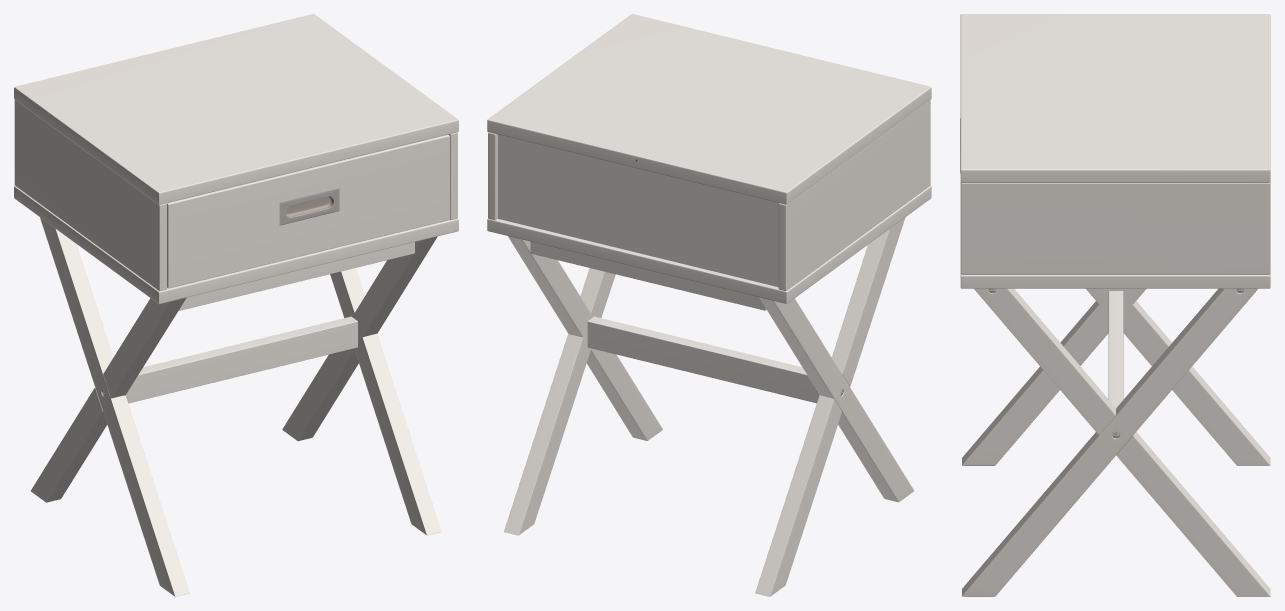
Rendered from table_B07DBDX5WF.glb.
The picture shows the model from 3 angles, left to right: view 1: azimuth 30°, elevation 25°; view 2: azimuth 150°, elevation 25°; view 3: azimuth 270°, elevation 25°; orthographic projection. The views are drawn at different scales.
Visible parts, largest first — view 1: RootNode; view 2: RootNode; view 3: RootNode.
Boxes of the visible parts, left/top/right/bottom form: RootNode: left=14, top=14, right=458, bottom=596; RootNode: left=487, top=14, right=931, bottom=596; RootNode: left=960, top=14, right=1270, bottom=596.
Bounding box in the file's own units: 0.4793 × 0.6229 × 0.4021.
Materials: 1 (1 with a texture image).
